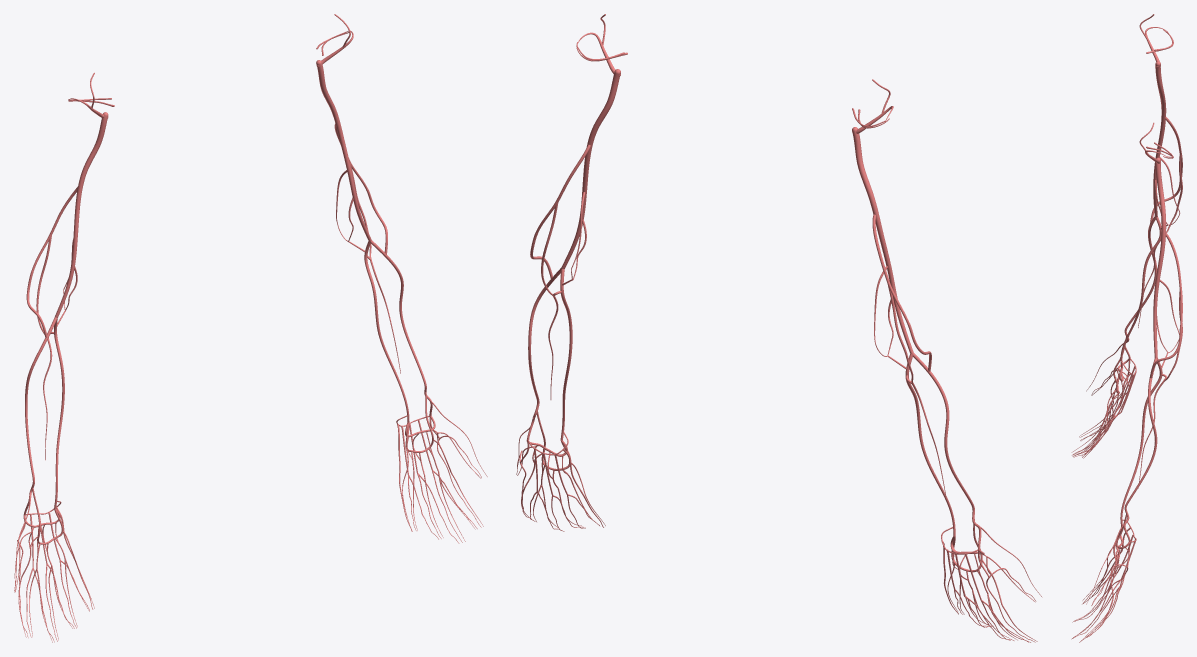
Rendered from arteres-membre-sup.hi.glb.
3 renders of one model, left to right at view 1: azimuth 30°, elevation 25°; view 2: azimuth 150°, elevation 25°; view 3: azimuth 270°, elevation 25°, orthographic. The views are drawn at different scales.
Visible parts, largest first — view 1: FJ2271, FJ2219, FJ2318, FJ2346; view 2: FJ2271, FJ2219, FJ2294, FJ2346; view 3: FJ2219, FJ2271, FJ2318, FJ2242, FJ2258, FJ2310, FJ2346, FJ2294, FJ2347, FJ2348, FJ2264, FJ2243.
Part boxes in pixels (x1,y1,x2,y2): FJ2271: [55, 112, 108, 317]; FJ2219: [316, 60, 371, 241]; FJ2318: [399, 435, 481, 543]; FJ2346: [14, 540, 93, 642]; FJ2271: [852, 127, 913, 354]; FJ2219: [561, 69, 620, 268]; FJ2294: [912, 353, 981, 549]; FJ2346: [943, 568, 1036, 642]; FJ2219: [1153, 157, 1166, 358]; FJ2271: [1153, 61, 1166, 217]; FJ2318: [1072, 563, 1128, 641]; FJ2242: [1123, 358, 1157, 541]; FJ2258: [1120, 358, 1162, 526]; FJ2310: [1120, 216, 1161, 367]; FJ2346: [1072, 370, 1128, 458]; FJ2294: [1124, 216, 1157, 358]; FJ2347: [1114, 359, 1136, 415]; FJ2348: [1114, 527, 1136, 586]; FJ2264: [1139, 14, 1166, 67]; FJ2243: [1150, 326, 1182, 378].
Size of the model in its own units: 0.6489 by 0.6785 by 0.1437.
